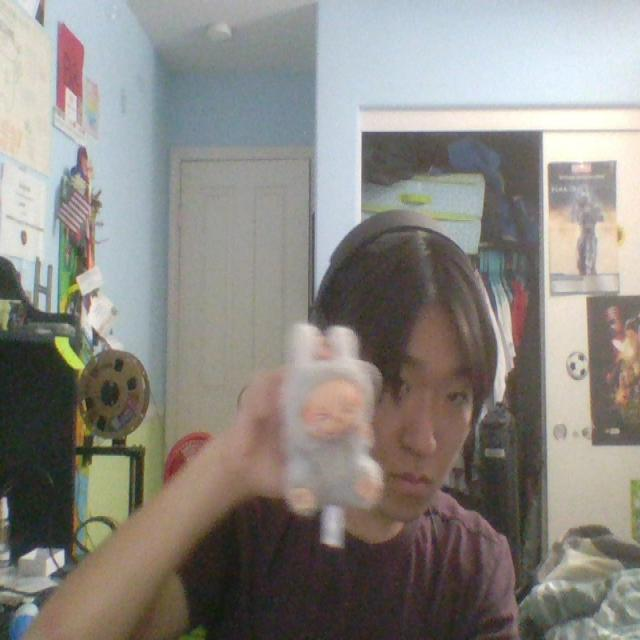labubu: (280, 323, 381, 545)
